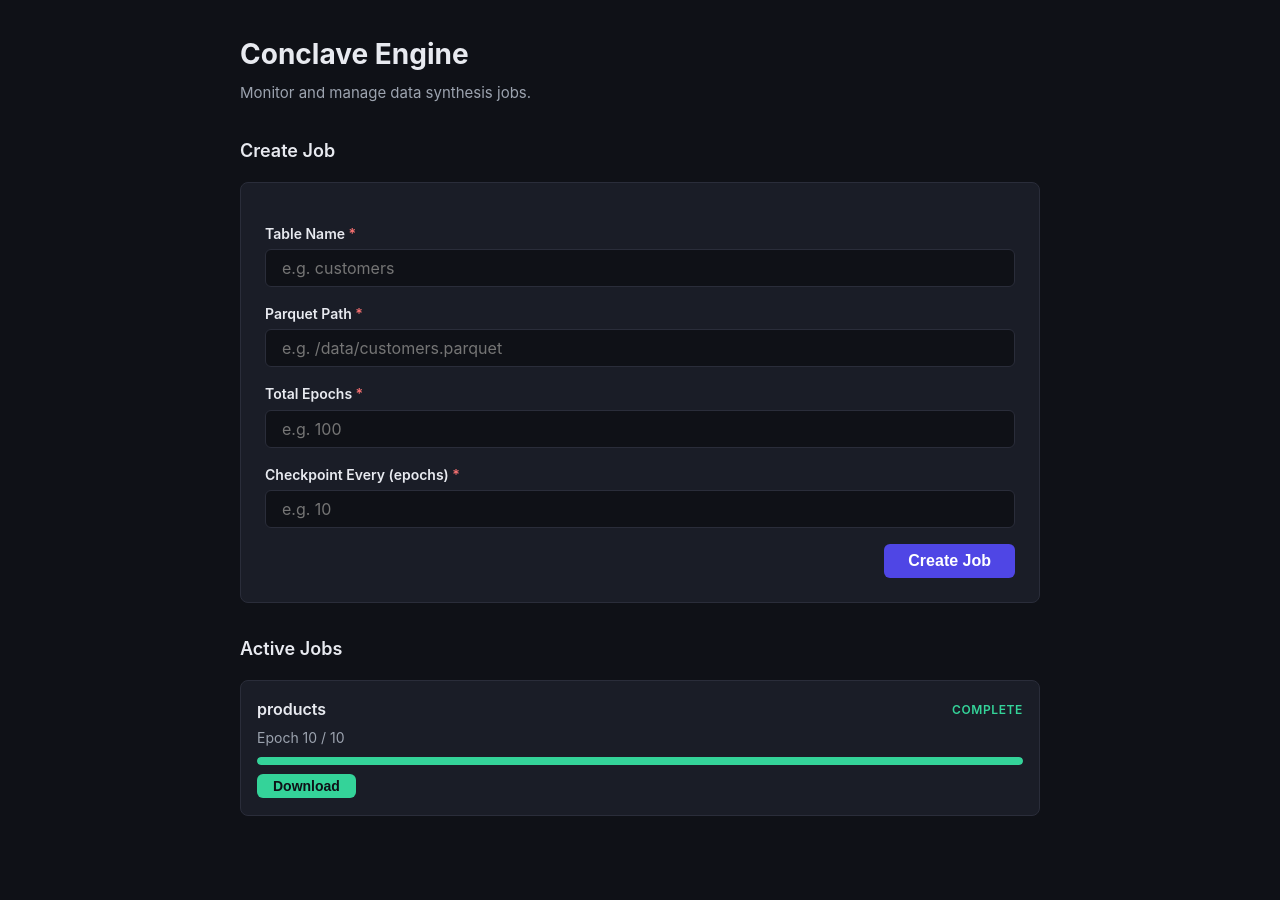
Scenario: Dashboard — download button wiring (P23-T23.3) › AC4: error toast shown when downloadJob fails
Step 1. Click the button with aria-label "download synthetic data for products" → coordinates (306, 786), box [257,774,356,798]
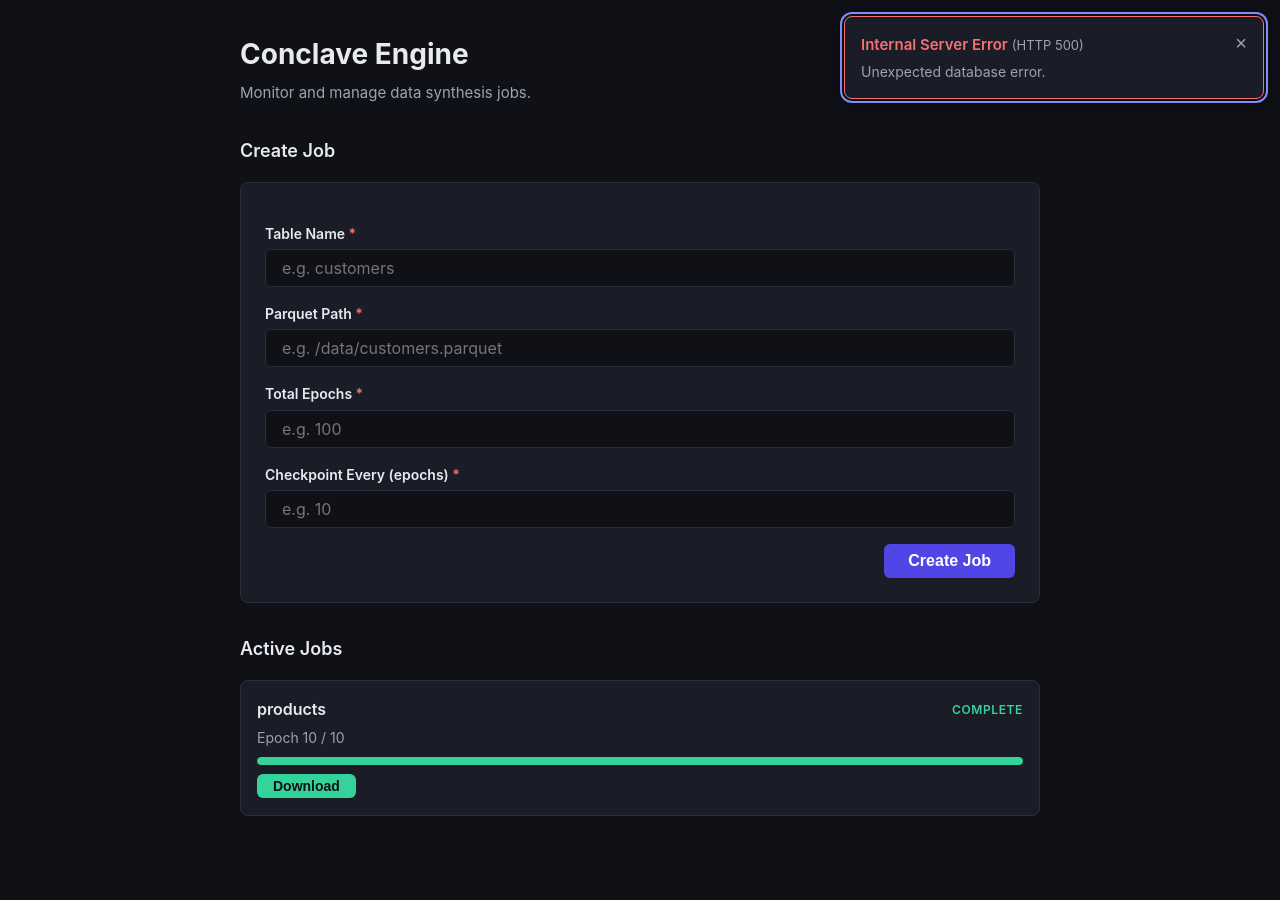
Expected: the dialog is shown, [844,16,1264,99]
Expected: the text "Internal Server Error (HTTP 500)" is shown, [861,35,1084,54]
